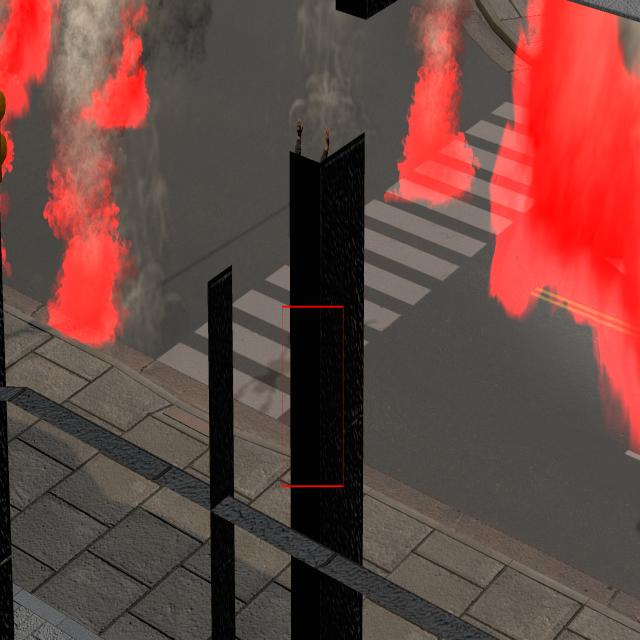Human: (286, 116, 337, 190)
